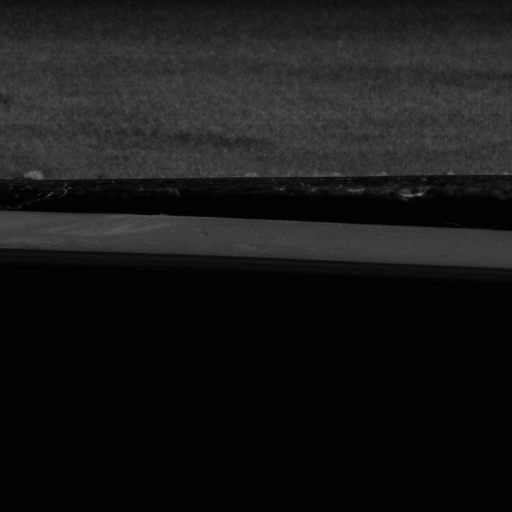kaijiao: (0, 163, 511, 272)
